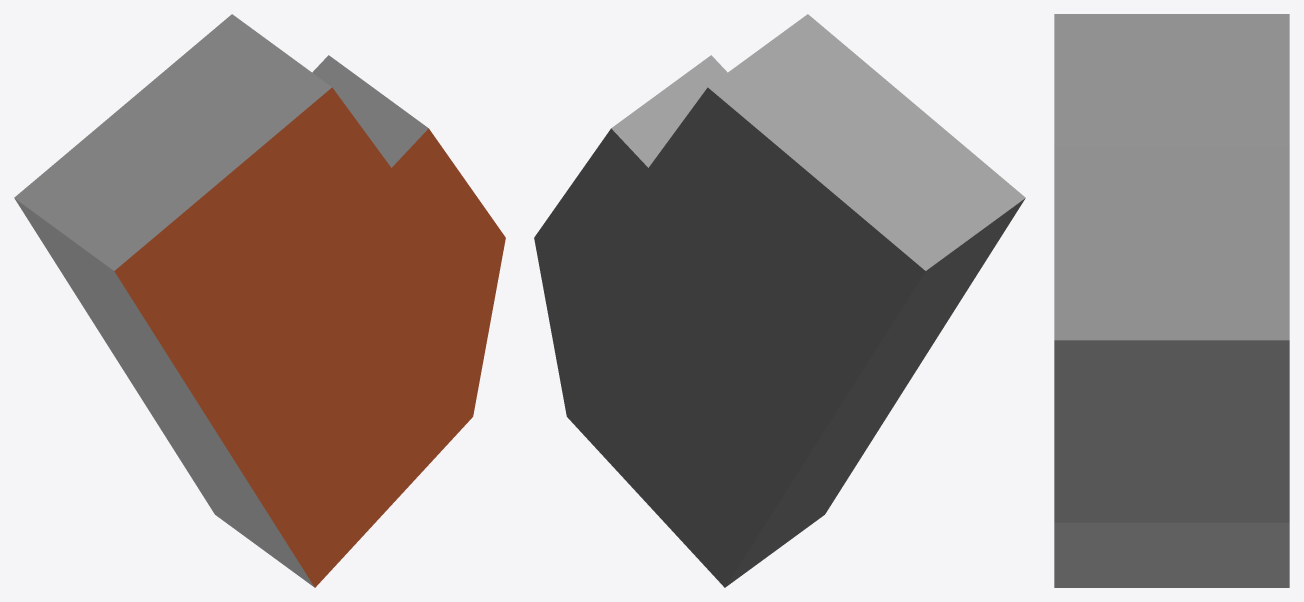
The model's file is construction_3116_assumed_A_Casa_h6m.obj.
3 views of the same model, side by side, from view 1: azimuth 30°, elevation 25°; view 2: azimuth 150°, elevation 25°; view 3: azimuth 270°, elevation 25° (orthographic). The views are drawn at different scales.
Visible parts, largest first — view 1: construction_3116_assumed_A_Casa; view 2: construction_3116_assumed_A_Casa; view 3: construction_3116_assumed_A_Casa.
Part boxes in pixels (x1,y1,x2,y2): construction_3116_assumed_A_Casa: (14,14,505,587); construction_3116_assumed_A_Casa: (534,14,1025,587); construction_3116_assumed_A_Casa: (1054,14,1289,587).
Bounding box in the file's own units: 13.54 × 16.41 × 6.
